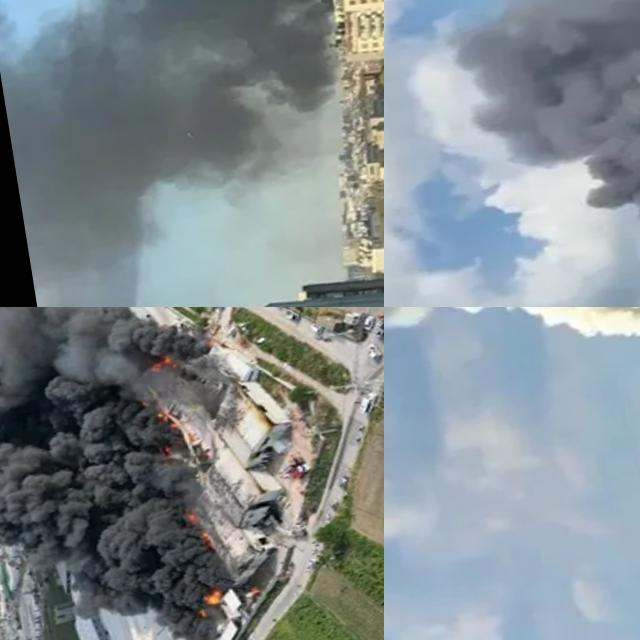smoke: (0, 307, 248, 640), (31, 0, 366, 202), (428, 0, 640, 246), (384, 307, 640, 399)
